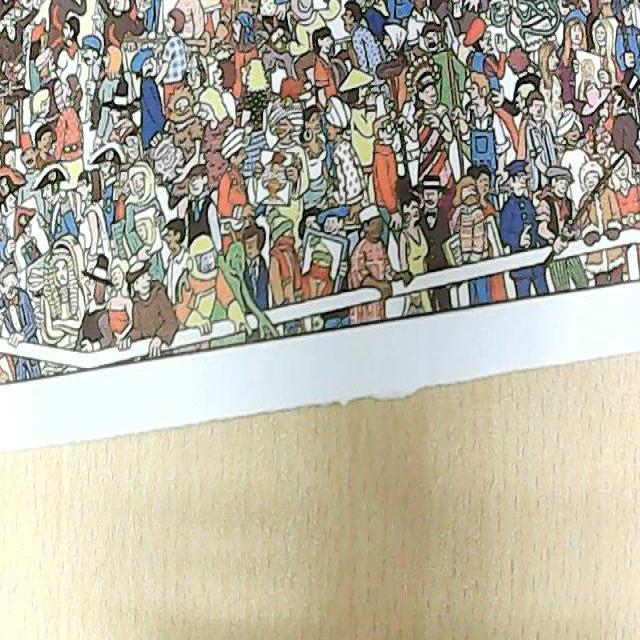waldo: (114, 120, 142, 164)
